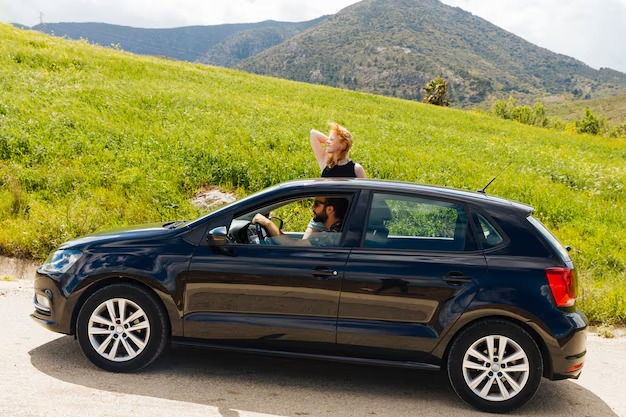car: (42, 167, 596, 405)
